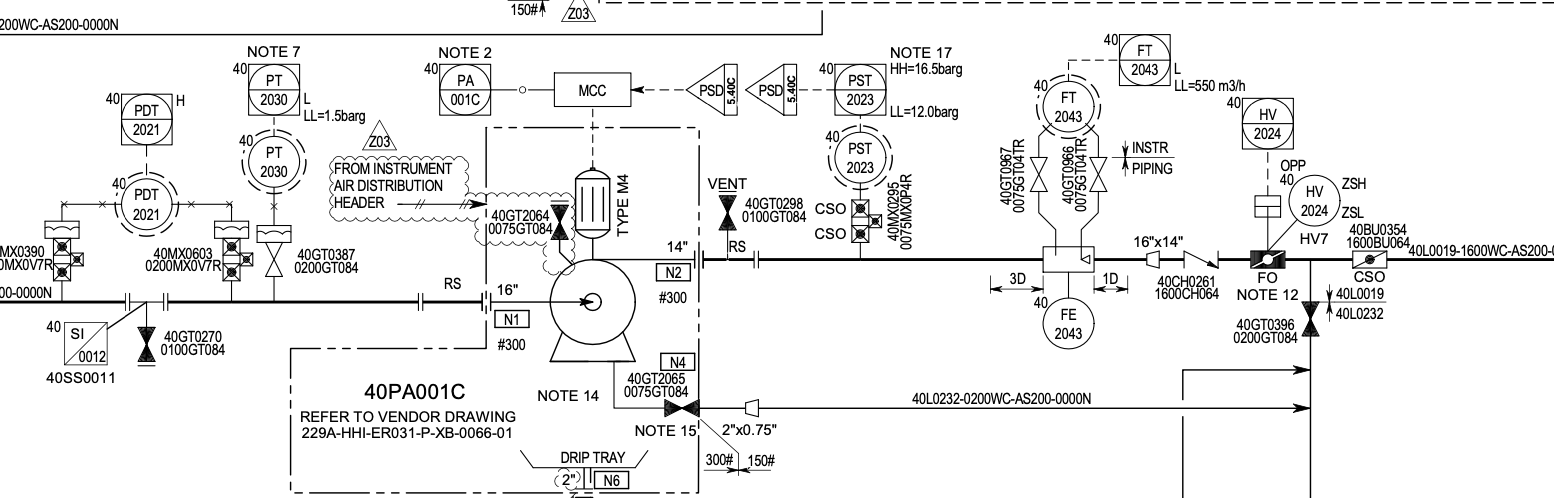Instrument: (103, 162, 188, 240), (815, 122, 899, 192), (234, 128, 313, 196), (1028, 70, 1106, 138), (1029, 292, 1104, 354), (1271, 167, 1345, 227)
Instrument-square: (100, 79, 188, 154), (412, 58, 499, 122), (1101, 24, 1180, 92), (231, 55, 307, 122), (815, 57, 893, 121)
